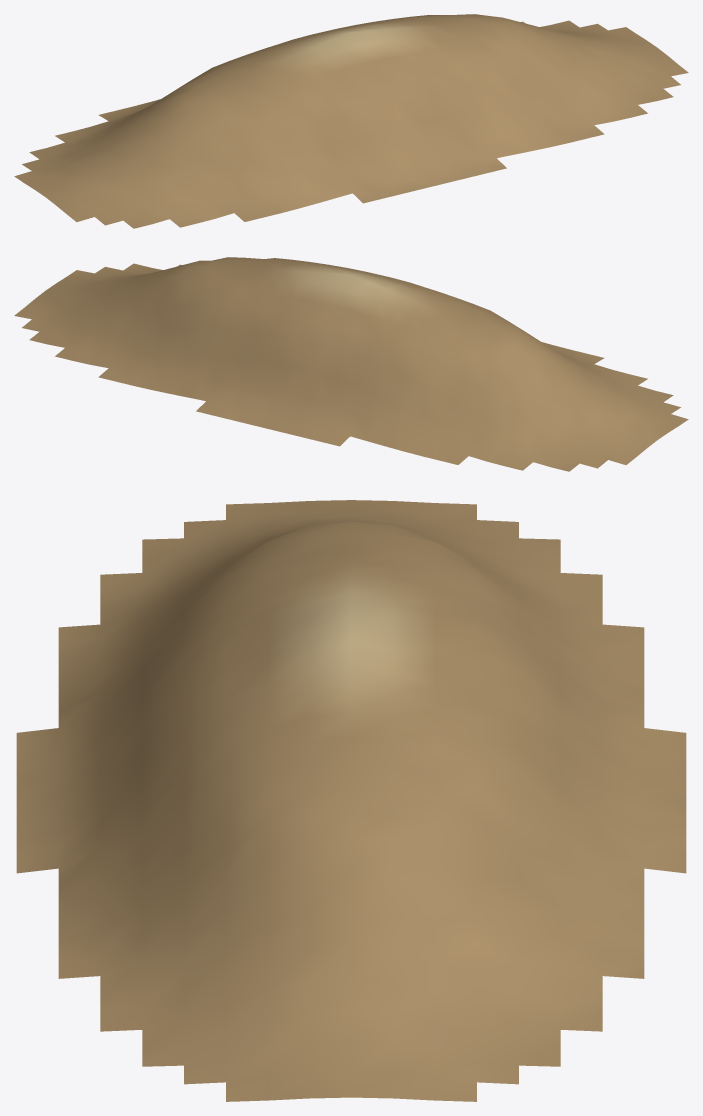
File: sandbar.glb
The picture shows the model from 3 angles, top to bottom: view 1: azimuth 30°, elevation 25°; view 2: azimuth 150°, elevation 25°; view 3: azimuth 270°, elevation 25°; orthographic projection. The views are drawn at different scales.
Parts seen in each view (by area): view 1: Sandbar_Ground; view 2: Sandbar_Ground; view 3: Sandbar_Ground.
Part boxes in pixels (x1=…): Sandbar_Ground: x1=14, y1=14, x2=688, y2=228; Sandbar_Ground: x1=14, y1=257, x2=688, y2=471; Sandbar_Ground: x1=16, y1=500, x2=686, y2=1101.
Size of the model in its own units: 25.84 by 3.72 by 12.24.
